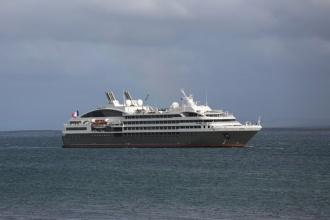youlun: (61, 85, 270, 148)
